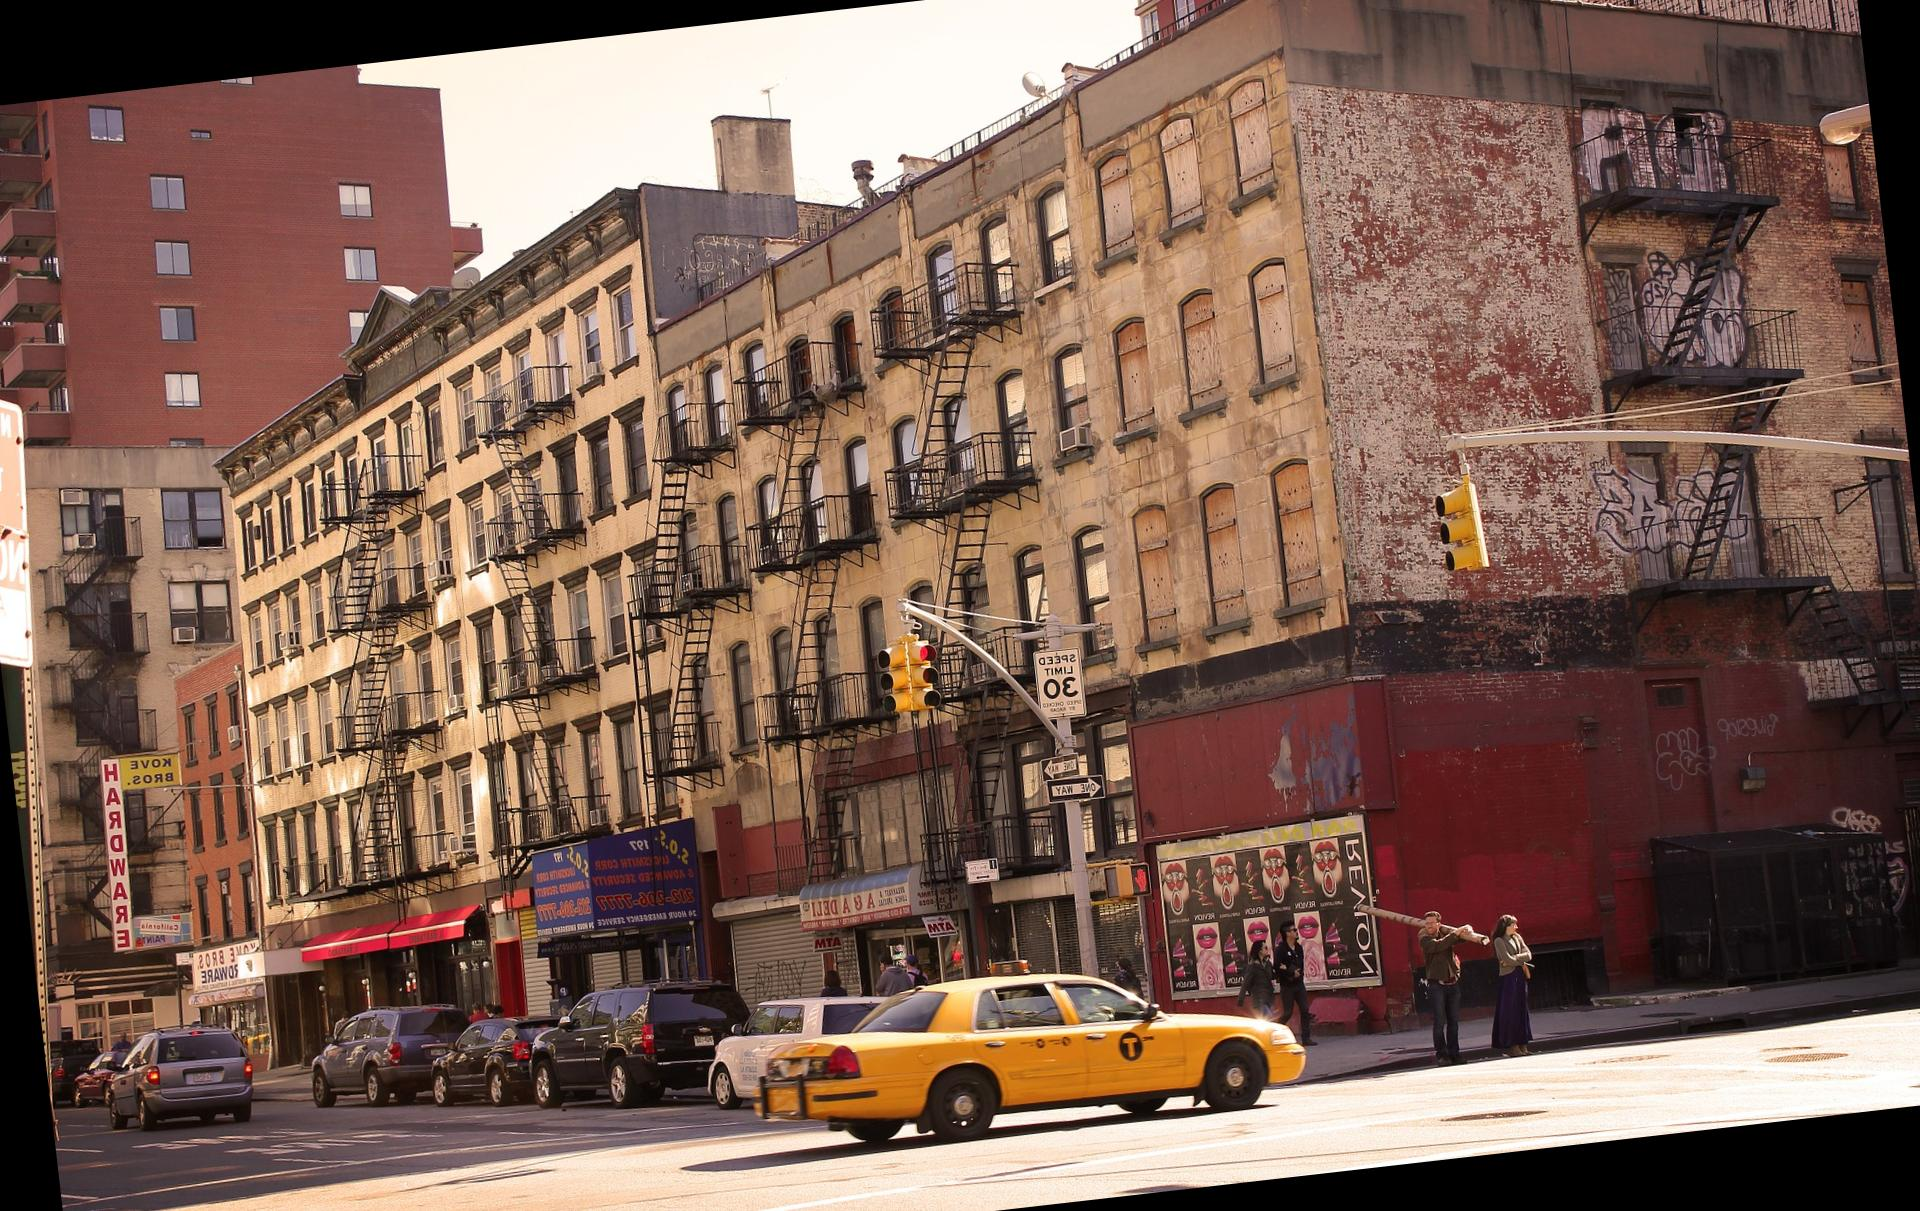taxi: (723, 975, 1317, 1119)
